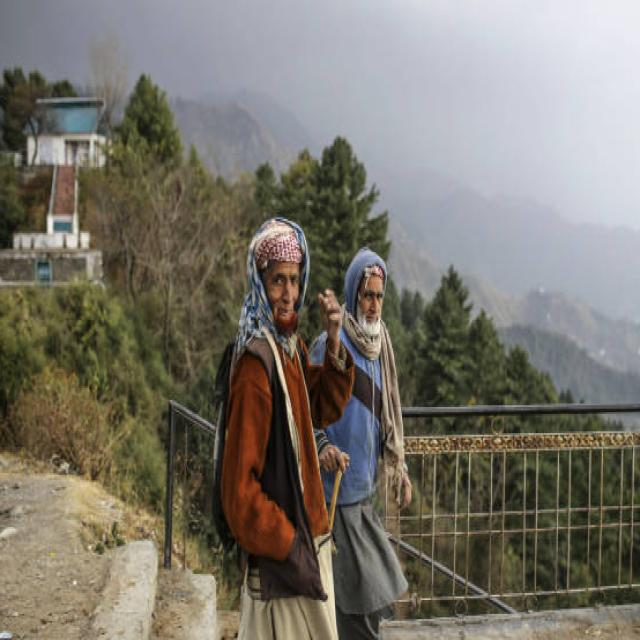civilian: (214, 217, 354, 640), (325, 247, 411, 640)
